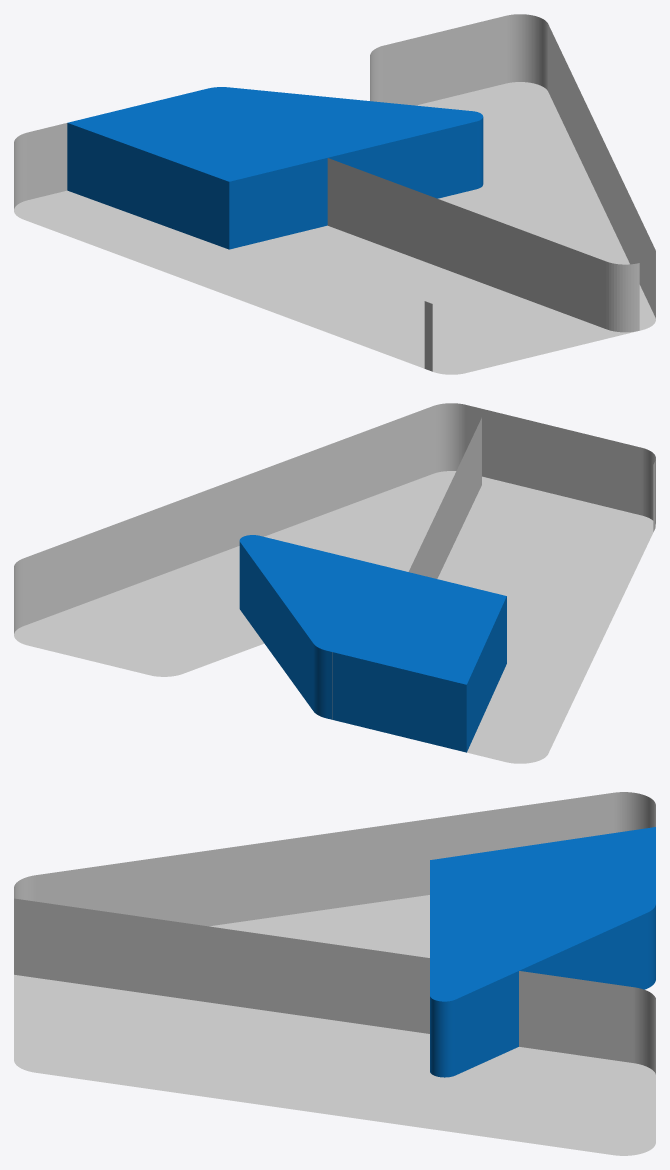
Rendered from azure.glb.
3 views of the same model, one above another, from view 1: azimuth 30°, elevation 25°; view 2: azimuth 150°, elevation 25°; view 3: azimuth 270°, elevation 25° (orthographic). The views are drawn at different scales.
Parts seen in each view (by area): view 1: Curve.005; view 2: Curve.005; view 3: Curve.005.
Boxes of the visible parts, x1,y1,x2,y2 form: Curve.005: (14,14,655,374); Curve.005: (14,403,655,763); Curve.005: (14,792,655,1155).
Bounding box in the file's own units: 0.793 × 0.0975 × 0.7471.
